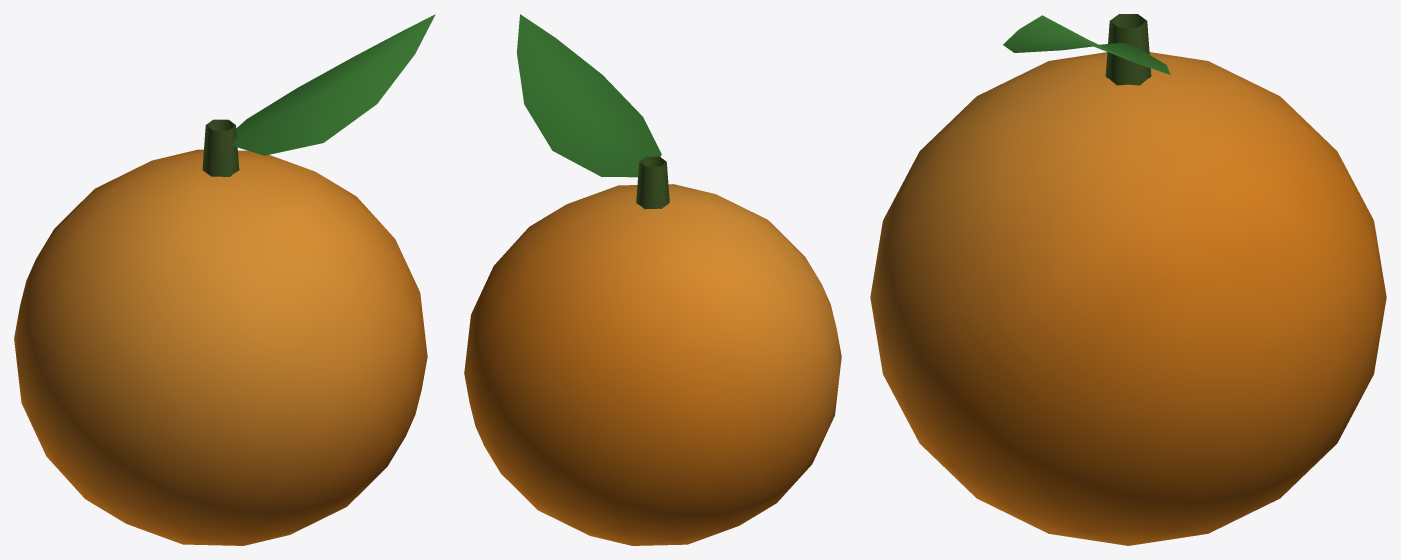
File: fruit_orange.glb
3 views of the same model, side by side, from view 1: azimuth 30°, elevation 25°; view 2: azimuth 150°, elevation 25°; view 3: azimuth 270°, elevation 25° (orthographic). The views are drawn at different scales.
Visible parts, largest first — view 1: fruit_orange; view 2: fruit_orange; view 3: fruit_orange.
Part boxes in pixels (bbox=[...]): fruit_orange: bbox=[14, 14, 435, 545]; fruit_orange: bbox=[464, 14, 841, 545]; fruit_orange: bbox=[870, 14, 1386, 545].
Size of the model in its own units: 0.2202 by 0.289 by 0.22.
